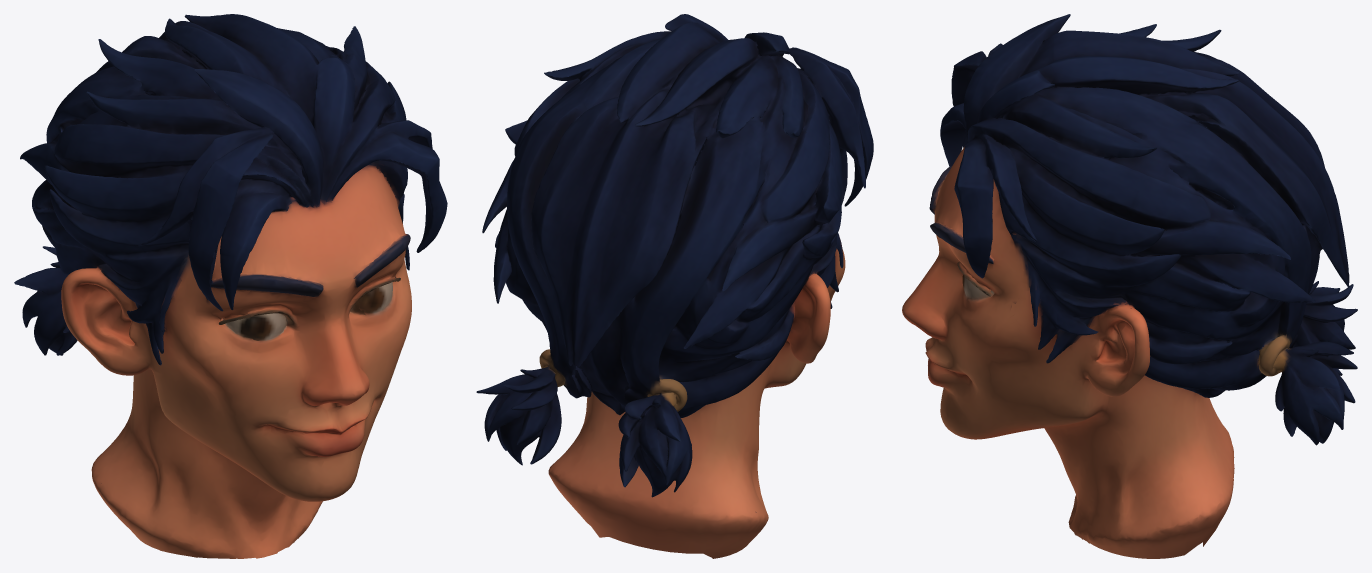
File: head.glb
The picture shows the model from 3 angles, left to right: view 1: azimuth 30°, elevation 25°; view 2: azimuth 150°, elevation 25°; view 3: azimuth 270°, elevation 25°; orthographic projection. The views are drawn at different scales.
Size of the model in its own units: 0.6958 by 0.9719 by 0.8366.
Materials: 1 (1 with a texture image).
